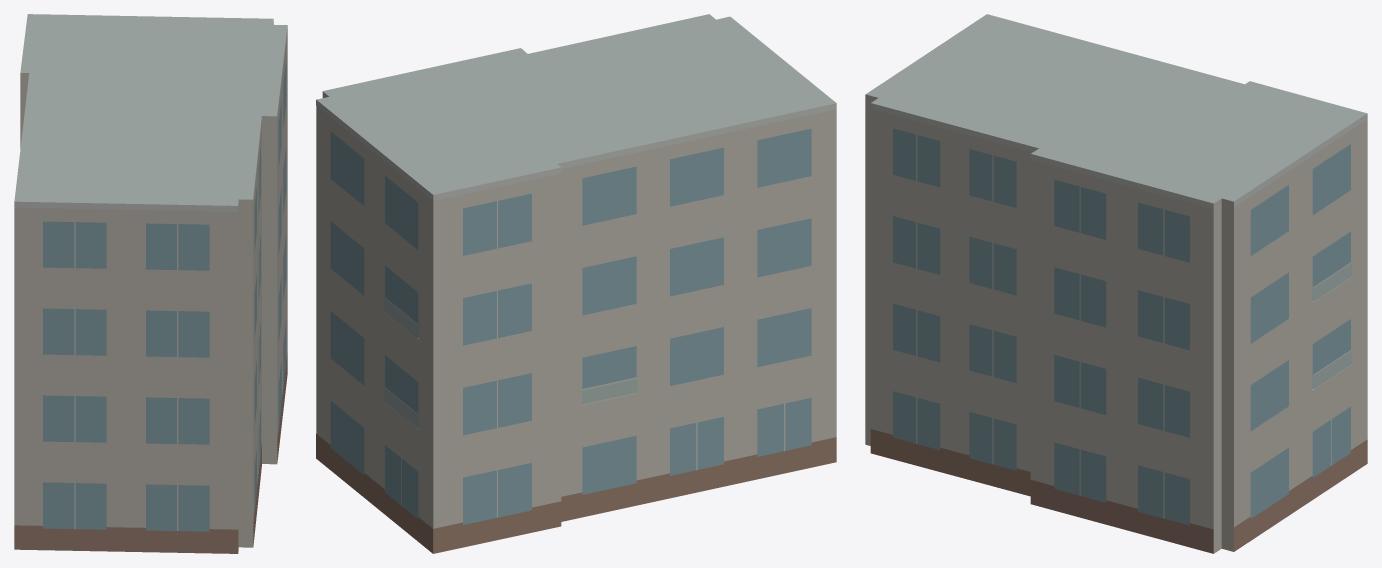
Rendered from survey-upis-32703846.glb.
3 renders of one model, left to right at view 1: azimuth 30°, elevation 25°; view 2: azimuth 150°, elevation 25°; view 3: azimuth 270°, elevation 25°, orthographic. The views are drawn at different scales.
Visible parts, largest first — view 1: survey-upis-32703846.tmp; view 2: survey-upis-32703846.tmp; view 3: survey-upis-32703846.tmp.
Part boxes in pixels (box(x1,y1,x2,y2)): survey-upis-32703846.tmp: box(14, 14, 287, 553); survey-upis-32703846.tmp: box(316, 14, 836, 553); survey-upis-32703846.tmp: box(865, 14, 1367, 553).
Bounding box in the file's own units: 16.87 × 14.52 × 18.87.
